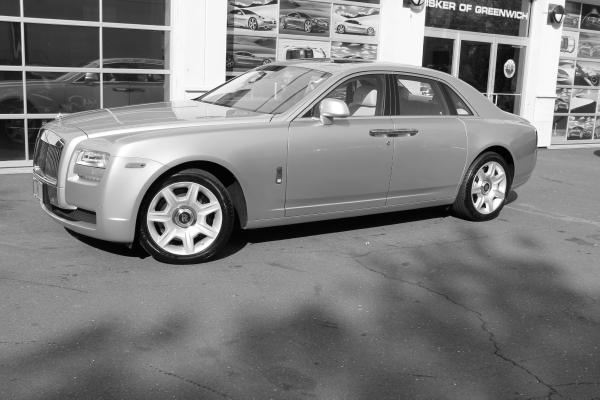car: (36, 60, 539, 266)
